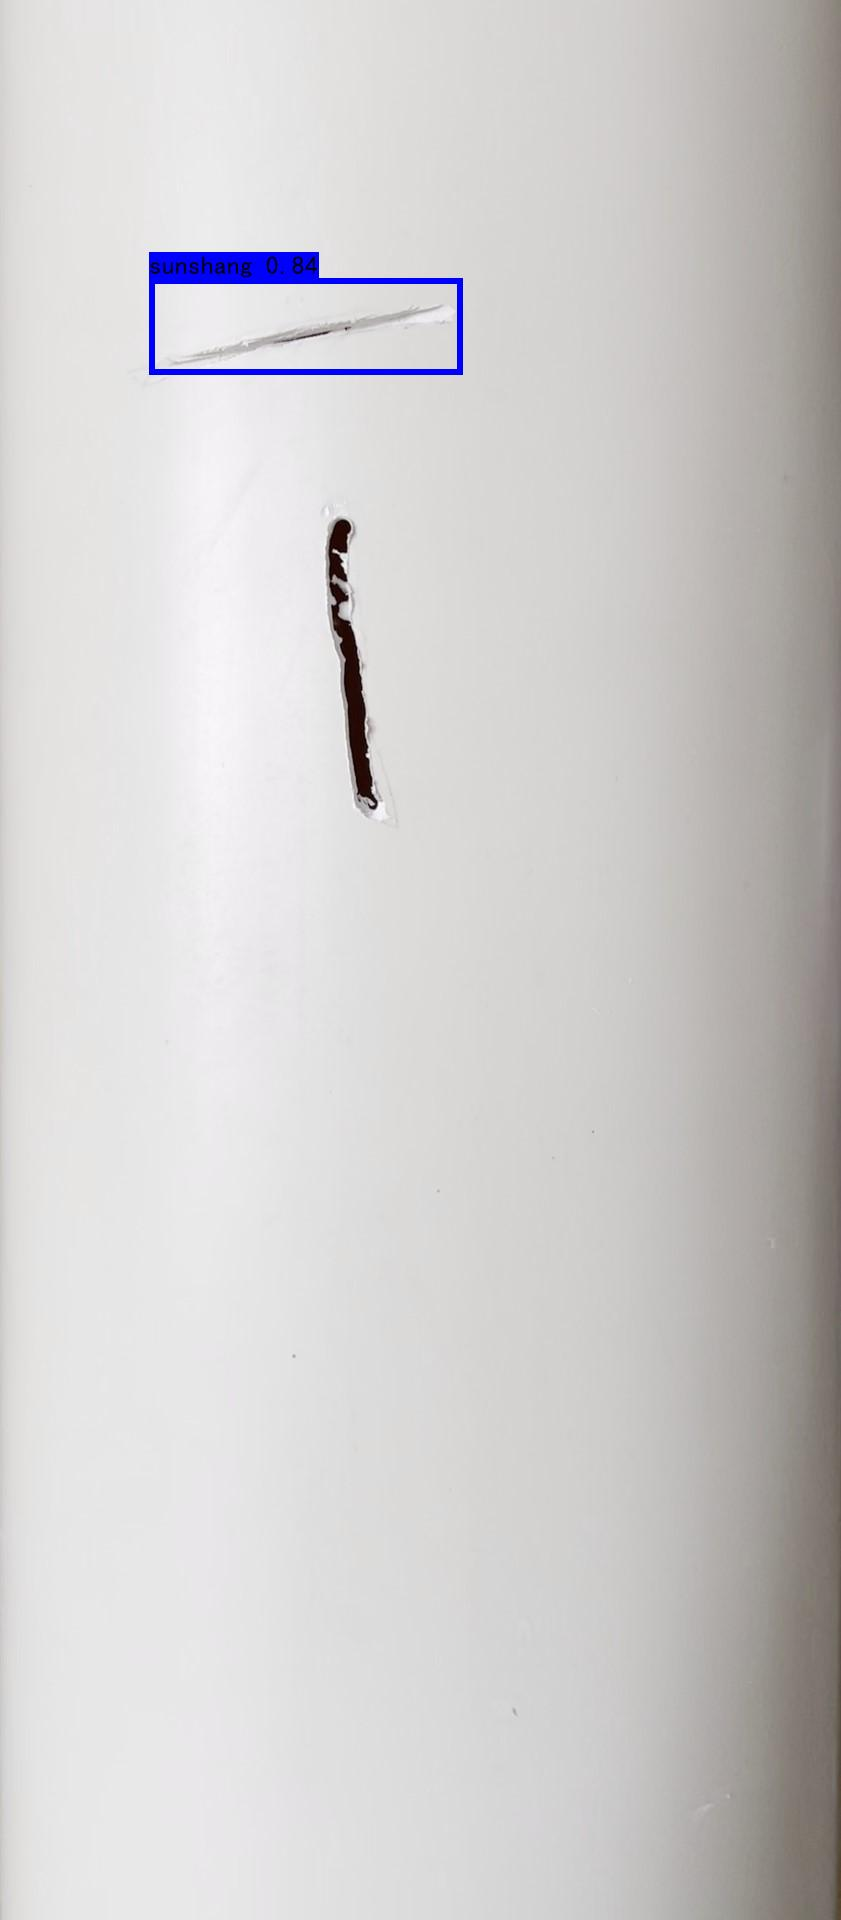fengxi: (306, 500, 411, 840)
sunshang: (154, 287, 463, 381)
